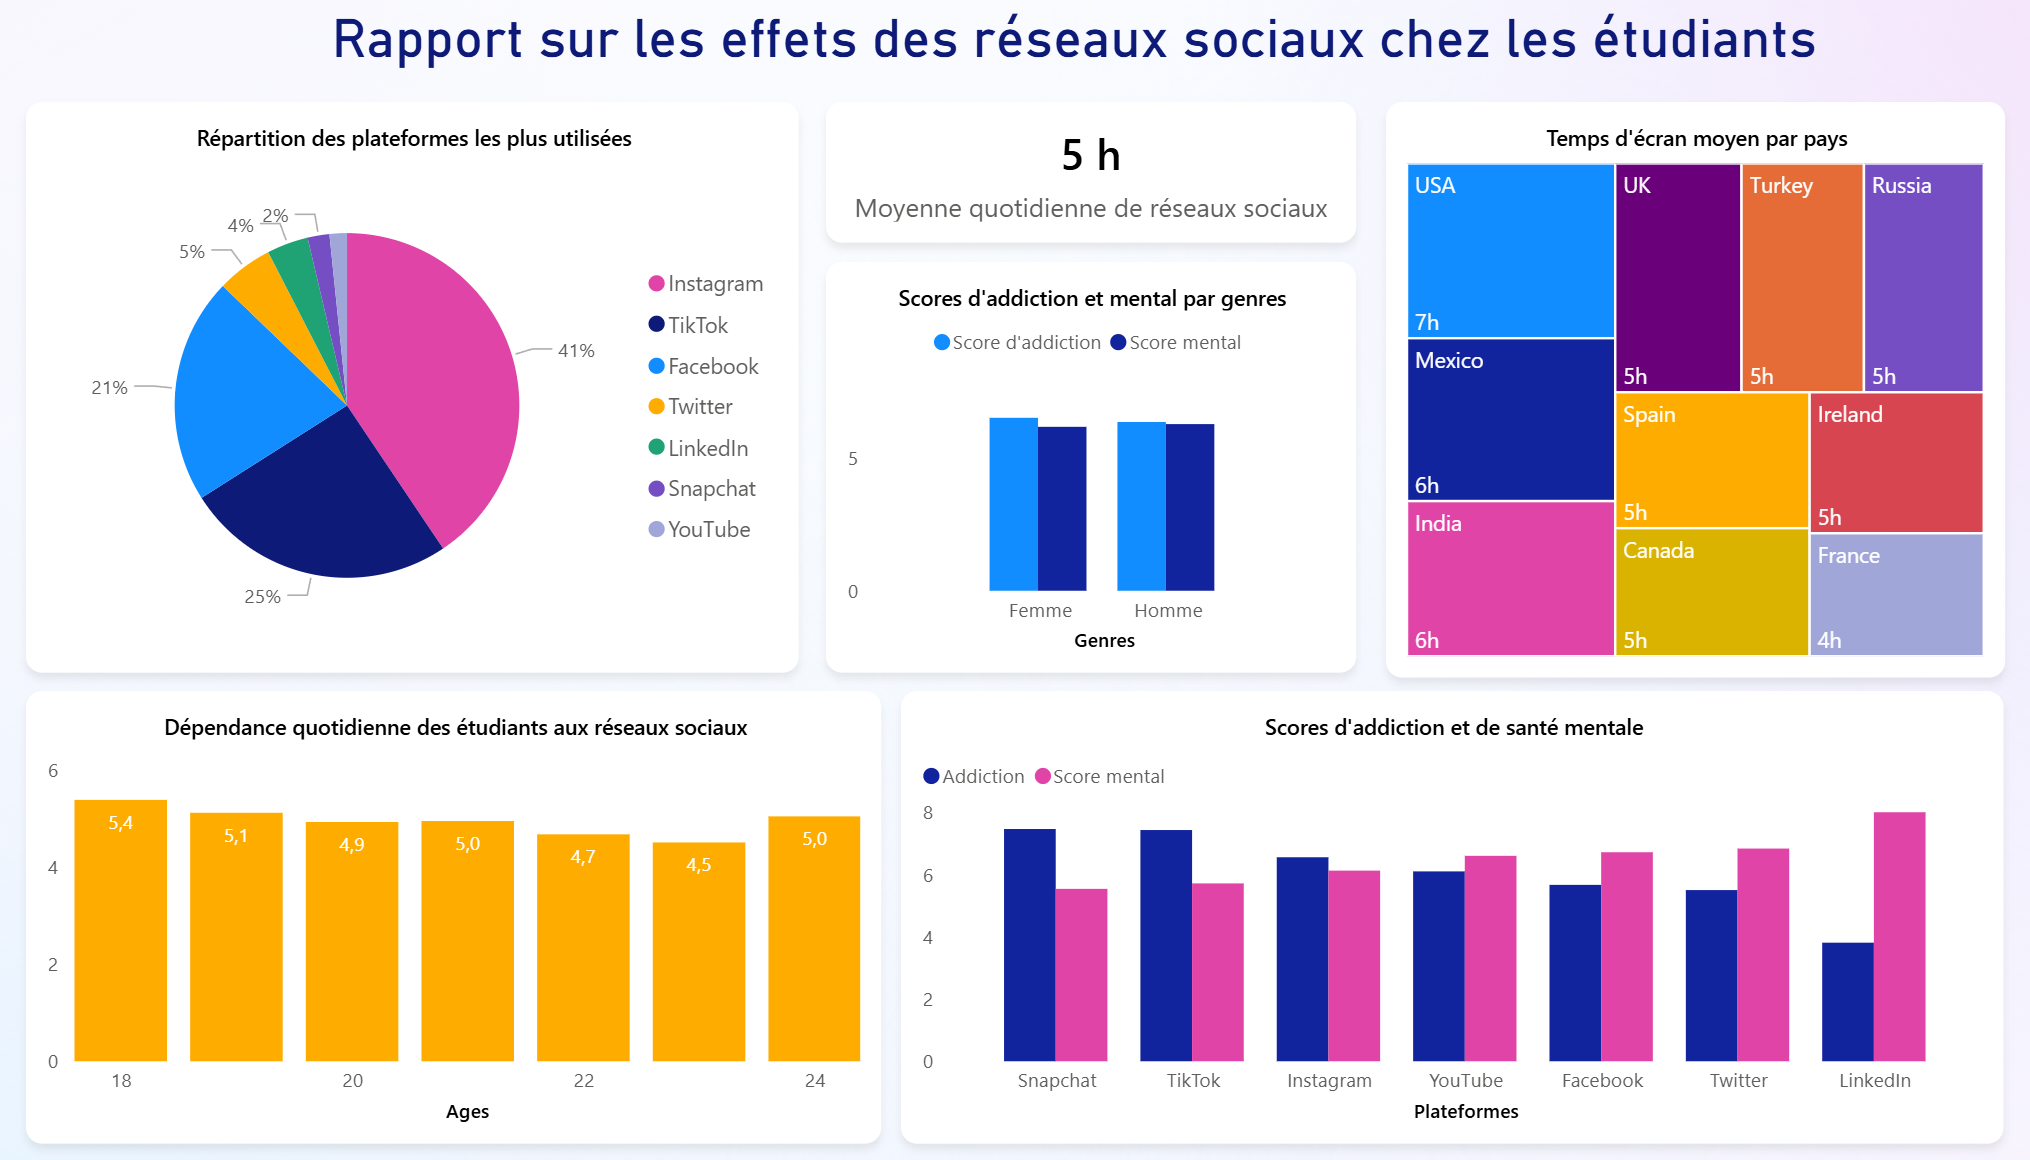

The page's visual inventory and layout, read from the dashboard file:
{"tool":"powerbi","page":{"name":"Page 1","canvas":[1280,720],"ordinal":0},"visuals":[{"type":"clusteredColumnChart","title":"Dépendance quotidienne des étudiants aux réseaux sociaux","fields":{"Y":["Avg(Students Social Media Addiction.Avg_Daily_Usage_Hours)"],"Category":["Students Social Media Addiction.Age"]},"box":[24.5,428,529.5,280],"z":0},{"type":"card","fields":{"Values":["Avg(Students Social Media Addiction.Avg_Daily_Usage_Hours)"]},"box":[519.7,63.9,327.7,86.8],"z":2000},{"type":"pieChart","title":"Répartition des plateformes les plus utilisées","fields":{"Category":["Students Social Media Addiction.Most_Used_Platform"],"Y":["Sum(Students Social Media Addiction.Age)"]},"box":[24.5,63.9,478.1,353.4],"z":5000},{"type":"treemap","title":"Temps d''écran moyen par pays","fields":{"Group":["Students Social Media Addiction.Country"],"Values":["Avg(Students Social Media Addiction.Avg_Daily_Usage_Hours)"]},"box":[865.8,63.9,382.7,355.8],"z":6000},{"type":"clusteredColumnChart","title":"Scores d''addiction et de santé mentale ","fields":{"Category":["Students Social Media Addiction.Most_Used_Platform"],"Y":["Avg(Students Social Media Addiction.Addicted_Score)","Avg(Students Social Media Addiction.Mental_Health_Score)"]},"box":[566.2,428,682.3,280],"z":7000},{"type":"clusteredColumnChart","title":"Scores d''addiction et mental par genres","fields":{"Category":["Students Social Media Addiction.Gender"],"Y":["Avg(Students Social Media Addiction.Addicted_Score)","Avg(Students Social Media Addiction.Mental_Health_Score)"]},"box":[519.7,162.9,327.7,254.3],"z":8000},{"type":"textbox","box":[209.1,0,947.7,50.1],"z":8001}]}

Visuals, with their boxes in screenshot pixels (x1, y1, x2, y2), scaled from the page's 1280x720 canvas onto the 2030x1160 screenshot:
"Dépendance quotidienne des étudiants aux réseaux sociaux" clusteredColumnChart: [x1=39, y1=690, x2=879, y2=1141]
card - Avg(Students Social Media Addiction.Avg_Daily_Usage_Hours): [x1=824, y1=103, x2=1344, y2=243]
"Répartition des plateformes les plus utilisées" pieChart: [x1=39, y1=103, x2=797, y2=672]
"Temps d''écran moyen par pays" treemap: [x1=1373, y1=103, x2=1980, y2=676]
"Scores d''addiction et de santé mentale " clusteredColumnChart: [x1=898, y1=690, x2=1980, y2=1141]
"Scores d''addiction et mental par genres" clusteredColumnChart: [x1=824, y1=262, x2=1344, y2=672]
textbox: [x1=332, y1=0, x2=1835, y2=81]
